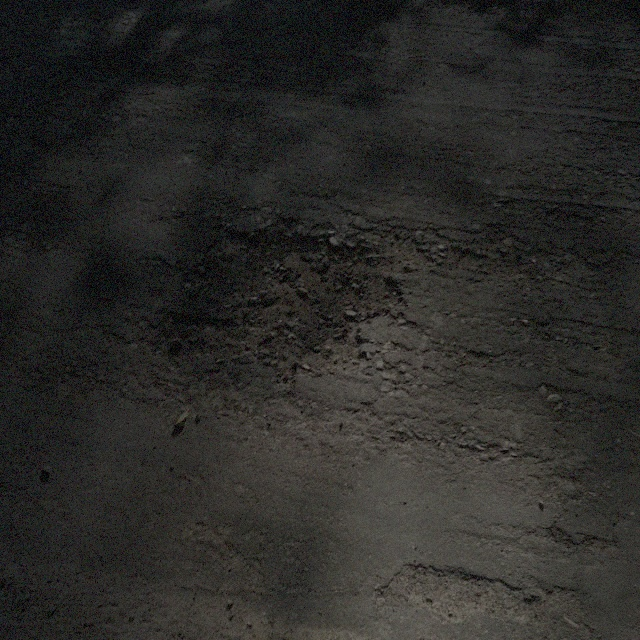pothole: (170, 221, 410, 375), (386, 557, 534, 625)
